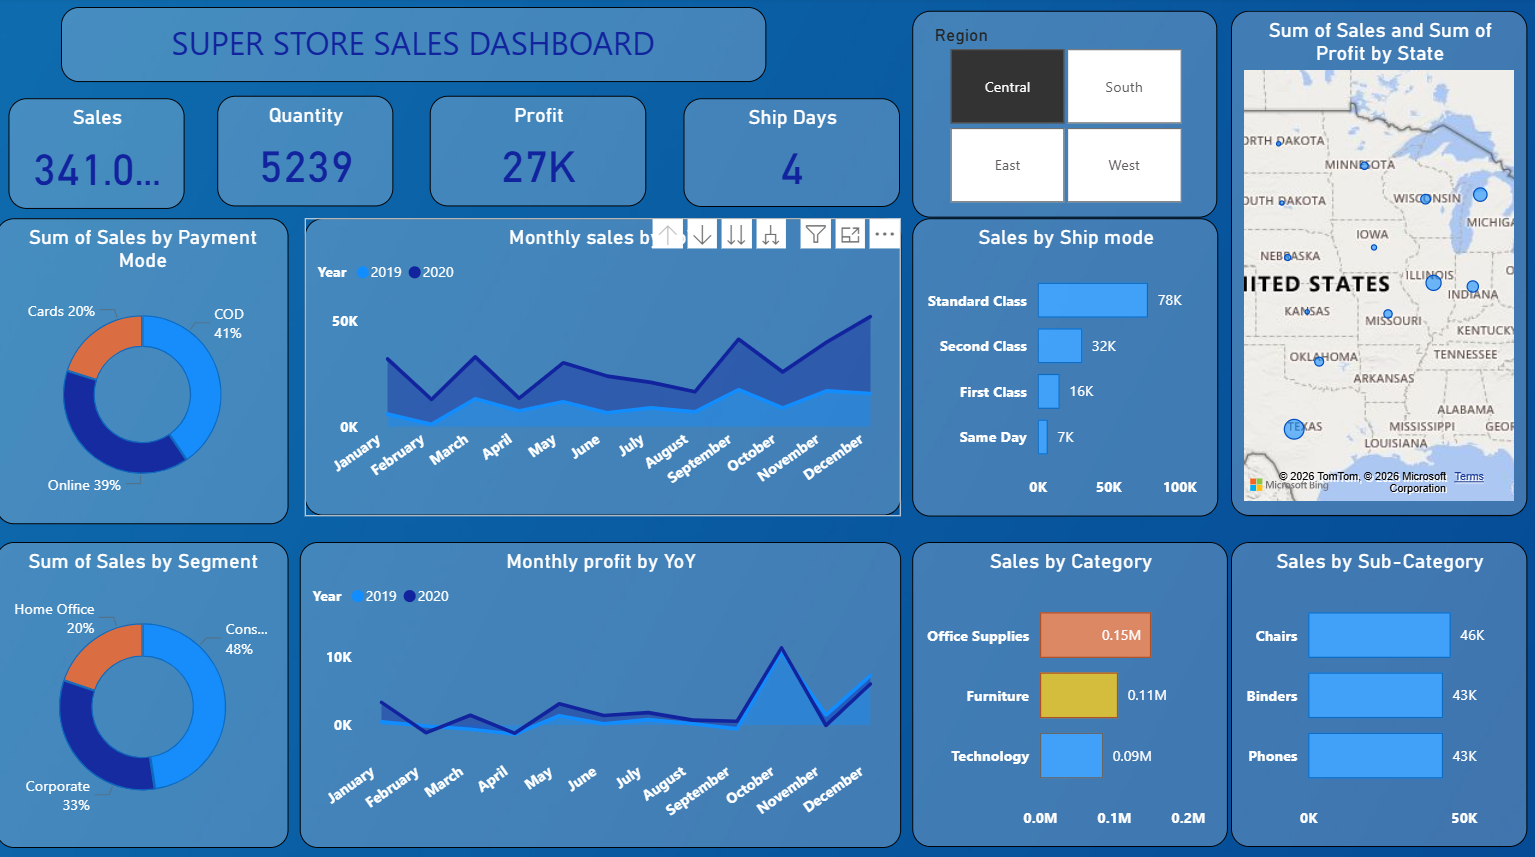

Layout of this report page (visuals, bound fields, positions):
{"tool":"powerbi","page":{"name":"Page 1","canvas":[1280,720],"ordinal":0},"visuals":[{"type":"clusteredBarChart","title":" Sales by Category","fields":{"Category":["SuperStore_Sales_Dataset.Category"],"Y":["Sum(SuperStore_Sales_Dataset.Sales)"]},"box":[761.6,453.5,262.8,253.5],"z":0},{"type":"clusteredBarChart","title":" Sales by Sub-Category","fields":{"Category":["SuperStore_Sales_Dataset.Sub-Category"],"Y":["Sum(SuperStore_Sales_Dataset.Sales)"]},"box":[1026.7,453.5,246.5,253.5],"z":1000},{"type":"stackedAreaChart","title":" Monthly sales by YoY ","fields":{"Y":["Sum(SuperStore_Sales_Dataset.Sales)"],"Category":["SuperStore_Sales_Dataset.Order Date.Variation.Date Hierarchy.Month","SuperStore_Sales_Dataset.Order Date.Variation.Date Hierarchy.Day"],"Series":["SuperStore_Sales_Dataset.Order Date.Variation.Date Hierarchy.Year"]},"box":[257.1,184.3,495.7,247.1],"z":2000},{"type":"stackedAreaChart","title":" Monthly profit by YoY ","fields":{"Category":["SuperStore_Sales_Dataset.Order Date.Variation.Date Hierarchy.Month","SuperStore_Sales_Dataset.Order Date.Variation.Date Hierarchy.Day"],"Series":["SuperStore_Sales_Dataset.Order Date.Variation.Date Hierarchy.Year"],"Y":["Sum(SuperStore_Sales_Dataset.Profit)"]},"box":[252.9,452.9,500,254.3],"z":3000},{"type":"map","fields":{"Category":["SuperStore_Sales_Dataset.State"],"Size":["Sum(SuperStore_Sales_Dataset.Sales)"]},"box":[1026.7,11.6,246.5,419.8],"z":4000},{"type":"clusteredBarChart","title":" Sales by Ship mode","fields":{"Category":["SuperStore_Sales_Dataset.Ship Mode"],"Y":["Sum(SuperStore_Sales_Dataset.Sales)"]},"box":[761.6,183.7,254.7,247.7],"z":5000},{"type":"card","title":"Sales","fields":{"Values":["Sum(SuperStore_Sales_Dataset.Sales)"]},"box":[10.5,83.7,146.5,91.9],"z":6000},{"type":"donutChart","fields":{"Category":["SuperStore_Sales_Dataset.Payment Mode"],"Y":["Sum(SuperStore_Sales_Dataset.Sales)"]},"box":[0,184.3,242.9,254.3],"z":7000},{"type":"slicer","fields":{"Values":["SuperStore_Sales_Dataset.Region"]},"box":[761.6,11.6,253.5,172.1],"z":8000},{"type":"textbox","box":[54,8,586,62],"z":9000},{"type":"card","title":"Profit","fields":{"Values":["Sum(SuperStore_Sales_Dataset.Profit)"]},"box":[360.5,82.6,180.2,91.9],"z":10000},{"type":"card","title":"Quantity","fields":{"Values":["Sum(SuperStore_Sales_Dataset.Quantity)"]},"box":[183.7,82.6,146.5,91.9],"z":11000},{"type":"donutChart","fields":{"Y":["Sum(SuperStore_Sales_Dataset.Sales)"],"Category":["SuperStore_Sales_Dataset.Segment"]},"box":[0,453.3,243.3,254.4],"z":12000},{"type":"card","title":"Ship Days","fields":{"Values":["Avg(SuperStore_Sales_Dataset.AvgDelivery)"]},"box":[572.1,83.7,180.2,90.7],"z":13000}]}

Visuals, with their boxes in screenshot pixels (x1, y1, x2, y2), scaled from the page's 1280x720 canvas onto the 1535x857 screenshot:
" Sales by Category" clusteredBarChart: {"left": 913, "top": 540, "right": 1228, "bottom": 842}
" Sales by Sub-Category" clusteredBarChart: {"left": 1231, "top": 540, "right": 1527, "bottom": 842}
" Monthly sales by YoY " stackedAreaChart: {"left": 308, "top": 219, "right": 903, "bottom": 513}
" Monthly profit by YoY " stackedAreaChart: {"left": 303, "top": 539, "right": 903, "bottom": 842}
map - SuperStore_Sales_Dataset.State x Sum(SuperStore_Sales_Dataset.Sales): {"left": 1231, "top": 14, "right": 1527, "bottom": 513}
" Sales by Ship mode" clusteredBarChart: {"left": 913, "top": 219, "right": 1219, "bottom": 513}
"Sales" card: {"left": 13, "top": 100, "right": 188, "bottom": 209}
donutChart - SuperStore_Sales_Dataset.Payment Mode x Sum(SuperStore_Sales_Dataset.Sales): {"left": 0, "top": 219, "right": 291, "bottom": 522}
slicer - SuperStore_Sales_Dataset.Region: {"left": 913, "top": 14, "right": 1217, "bottom": 219}
textbox: {"left": 65, "top": 10, "right": 768, "bottom": 83}
"Profit" card: {"left": 432, "top": 98, "right": 648, "bottom": 208}
"Quantity" card: {"left": 220, "top": 98, "right": 396, "bottom": 208}
donutChart - Sum(SuperStore_Sales_Dataset.Sales) x SuperStore_Sales_Dataset.Segment: {"left": 0, "top": 540, "right": 292, "bottom": 842}
"Ship Days" card: {"left": 686, "top": 100, "right": 902, "bottom": 208}
